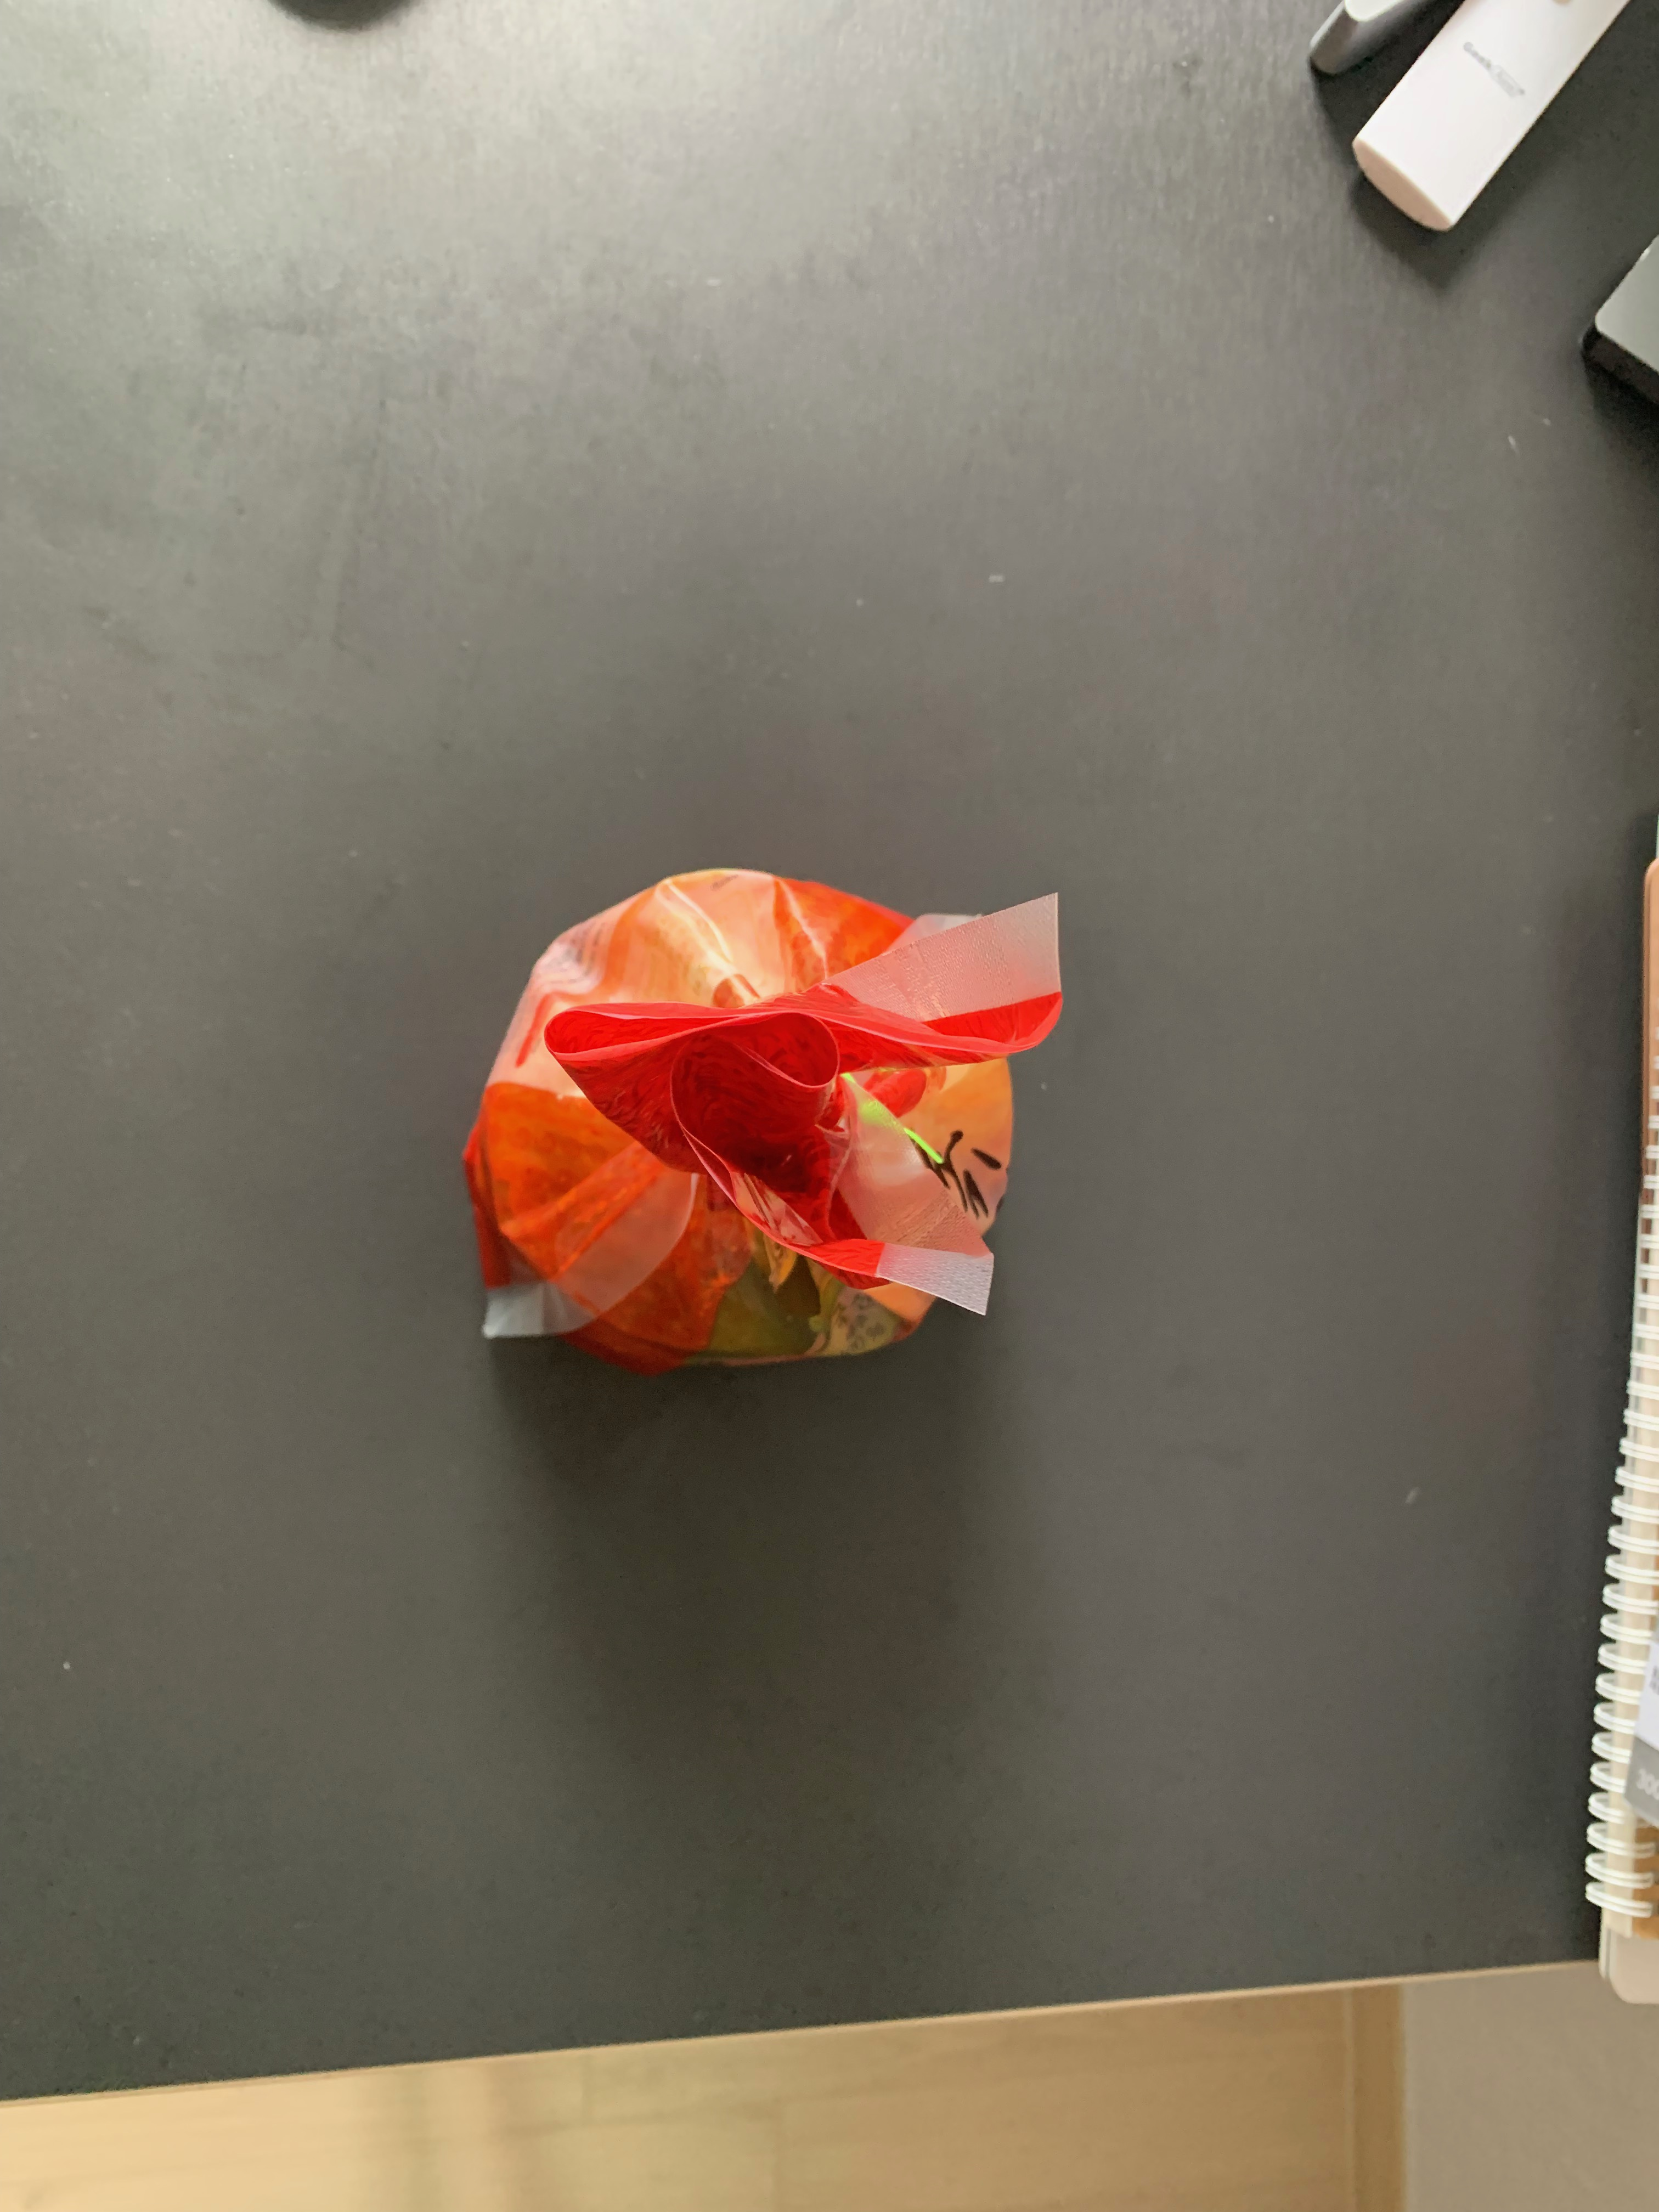kimchi: (462, 862, 1058, 1359)
